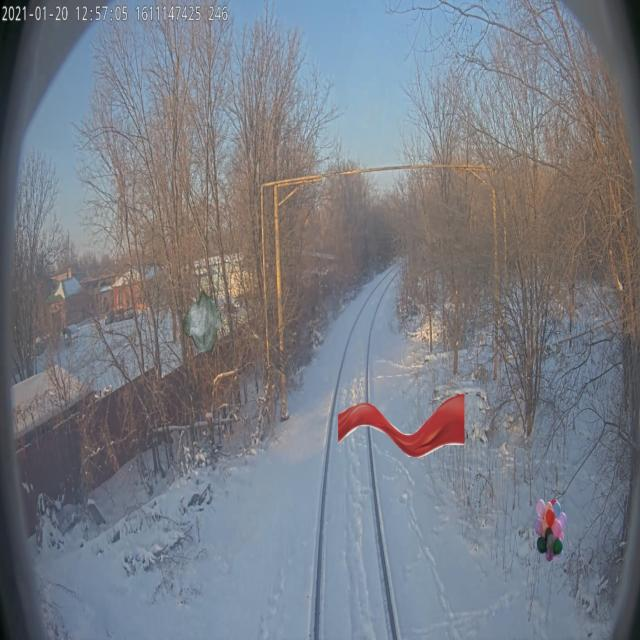balloon: (534, 498, 567, 562)
floating object: (338, 393, 464, 458)
plastic bag: (182, 289, 224, 353)
